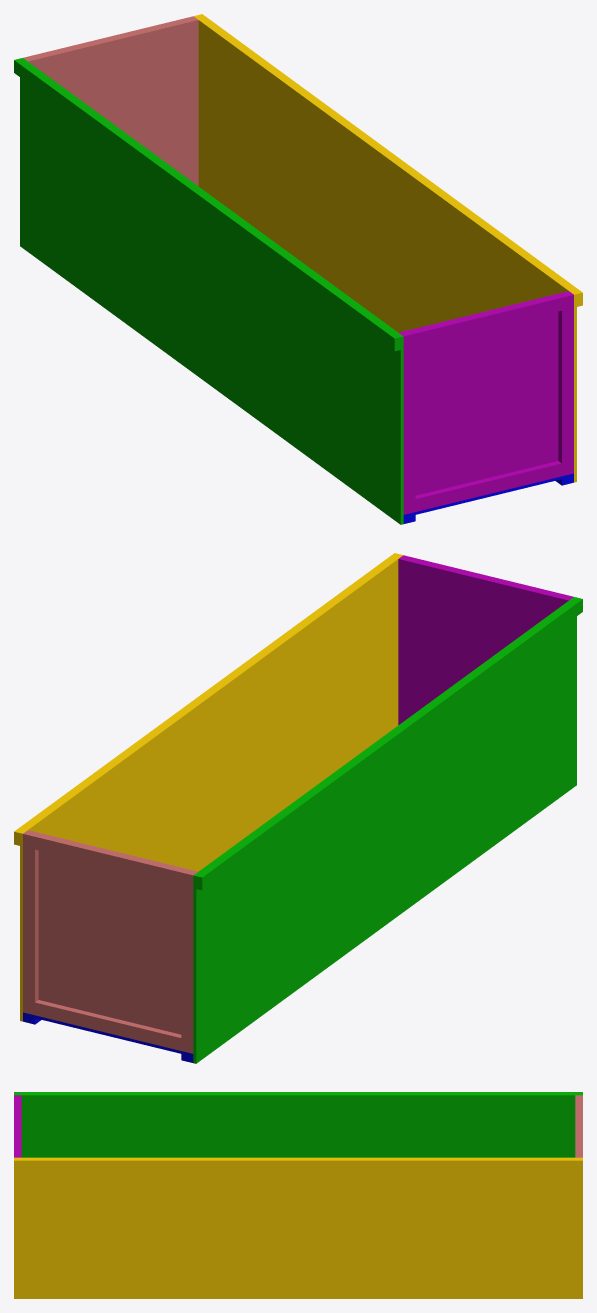
The model's file is result.glb.
The picture shows the model from 3 angles, top to bottom: view 1: azimuth 30°, elevation 25°; view 2: azimuth 150°, elevation 25°; view 3: azimuth 270°, elevation 25°; orthographic projection. The views are drawn at different scales.
Visible parts, largest first — view 1: 748f3115-2d6f-4462-82e4-8beb21bc48af__Box_6, 394ecdbd-8493-434a-b35c-d9eac2d4e5fa__undefined, 0af2f89b-1e45-4a14-8ed8-b221c9dccea8__Box_3, 85f20c6d-091f-48c4-9046-6453a6619dbb__undefined, 4beafc5a-f637-419f-ac4e-fc119432d94c__Box_7, 064e1ea6-b6b9-4e8f-9f96-c64c21b91e20__undefined, 71ab6f93-33f1-4ecf-975a-7afd913f233b__undefined, 5a58432c-915f-4f09-a092-b362de09f766__undefined, aee65509-3d08-47cb-8fe8-326f73871344__Box_5, eed21466-0508-47bc-bff1-374cc4252115__Box_4; view 2: 748f3115-2d6f-4462-82e4-8beb21bc48af__Box_6, 394ecdbd-8493-434a-b35c-d9eac2d4e5fa__undefined, 85f20c6d-091f-48c4-9046-6453a6619dbb__undefined, 0af2f89b-1e45-4a14-8ed8-b221c9dccea8__Box_3, 4beafc5a-f637-419f-ac4e-fc119432d94c__Box_7, b8f634e8-fe53-47a1-8947-2f5b4a3dc5d6__undefined, 71ab6f93-33f1-4ecf-975a-7afd913f233b__undefined, 42ee9bb8-2e95-4f9c-a68f-40da1be7f82c__undefined, 112d5088-ecd7-46b8-a8f1-8105a8a8ac8e__undefined, 5db54b1c-1cd5-4caa-8859-743710dc4925__undefined; view 3: 394ecdbd-8493-434a-b35c-d9eac2d4e5fa__undefined, 748f3115-2d6f-4462-82e4-8beb21bc48af__Box_6, 71ab6f93-33f1-4ecf-975a-7afd913f233b__undefined, 4beafc5a-f637-419f-ac4e-fc119432d94c__Box_7, 5a58432c-915f-4f09-a092-b362de09f766__undefined, 42ee9bb8-2e95-4f9c-a68f-40da1be7f82c__undefined.
Part boxes in pixels (x1,y1,x2,y2): 748f3115-2d6f-4462-82e4-8beb21bc48af__Box_6: [20, 58, 403, 524]; 394ecdbd-8493-434a-b35c-d9eac2d4e5fa__undefined: [194, 15, 576, 482]; 0af2f89b-1e45-4a14-8ed8-b221c9dccea8__Box_3: [399, 291, 569, 495]; 85f20c6d-091f-48c4-9046-6453a6619dbb__undefined: [27, 19, 198, 185]; 4beafc5a-f637-419f-ac4e-fc119432d94c__Box_7: [14, 58, 400, 351]; 064e1ea6-b6b9-4e8f-9f96-c64c21b91e20__undefined: [558, 292, 573, 476]; 71ab6f93-33f1-4ecf-975a-7afd913f233b__undefined: [196, 14, 582, 306]; 5a58432c-915f-4f09-a092-b362de09f766__undefined: [412, 295, 561, 345]; aee65509-3d08-47cb-8fe8-326f73871344__Box_5: [415, 461, 561, 511]; eed21466-0508-47bc-bff1-374cc4252115__Box_4: [400, 331, 415, 514]; 748f3115-2d6f-4462-82e4-8beb21bc48af__Box_6: [193, 597, 576, 1063]; 394ecdbd-8493-434a-b35c-d9eac2d4e5fa__undefined: [20, 554, 402, 1021]; 85f20c6d-091f-48c4-9046-6453a6619dbb__undefined: [27, 830, 197, 1034]; 0af2f89b-1e45-4a14-8ed8-b221c9dccea8__Box_3: [398, 558, 569, 724]; 4beafc5a-f637-419f-ac4e-fc119432d94c__Box_7: [196, 597, 582, 890]; b8f634e8-fe53-47a1-8947-2f5b4a3dc5d6__undefined: [23, 831, 38, 1015]; 71ab6f93-33f1-4ecf-975a-7afd913f233b__undefined: [14, 553, 400, 845]; 42ee9bb8-2e95-4f9c-a68f-40da1be7f82c__undefined: [35, 834, 184, 884]; 112d5088-ecd7-46b8-a8f1-8105a8a8ac8e__undefined: [35, 1000, 181, 1050]; 5db54b1c-1cd5-4caa-8859-743710dc4925__undefined: [181, 870, 196, 1053]; 394ecdbd-8493-434a-b35c-d9eac2d4e5fa__undefined: [14, 1157, 582, 1298]; 748f3115-2d6f-4462-82e4-8beb21bc48af__Box_6: [14, 1094, 582, 1157]; 71ab6f93-33f1-4ecf-975a-7afd913f233b__undefined: [14, 1158, 582, 1170]; 4beafc5a-f637-419f-ac4e-fc119432d94c__Box_7: [14, 1092, 582, 1094]; 5a58432c-915f-4f09-a092-b362de09f766__undefined: [14, 1099, 19, 1152]; 42ee9bb8-2e95-4f9c-a68f-40da1be7f82c__undefined: [577, 1099, 582, 1152].
Size of the model in its own units: 552 by 526 by 1932.
